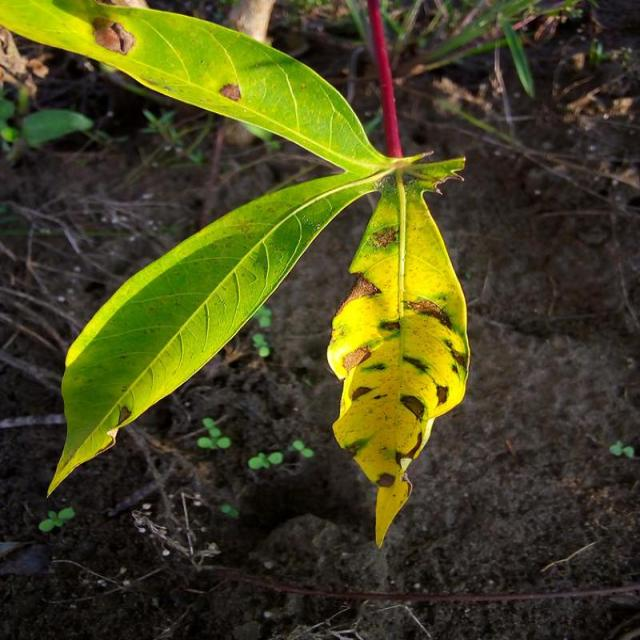cassava leaf: (2, 0, 470, 547), (326, 164, 470, 547)
